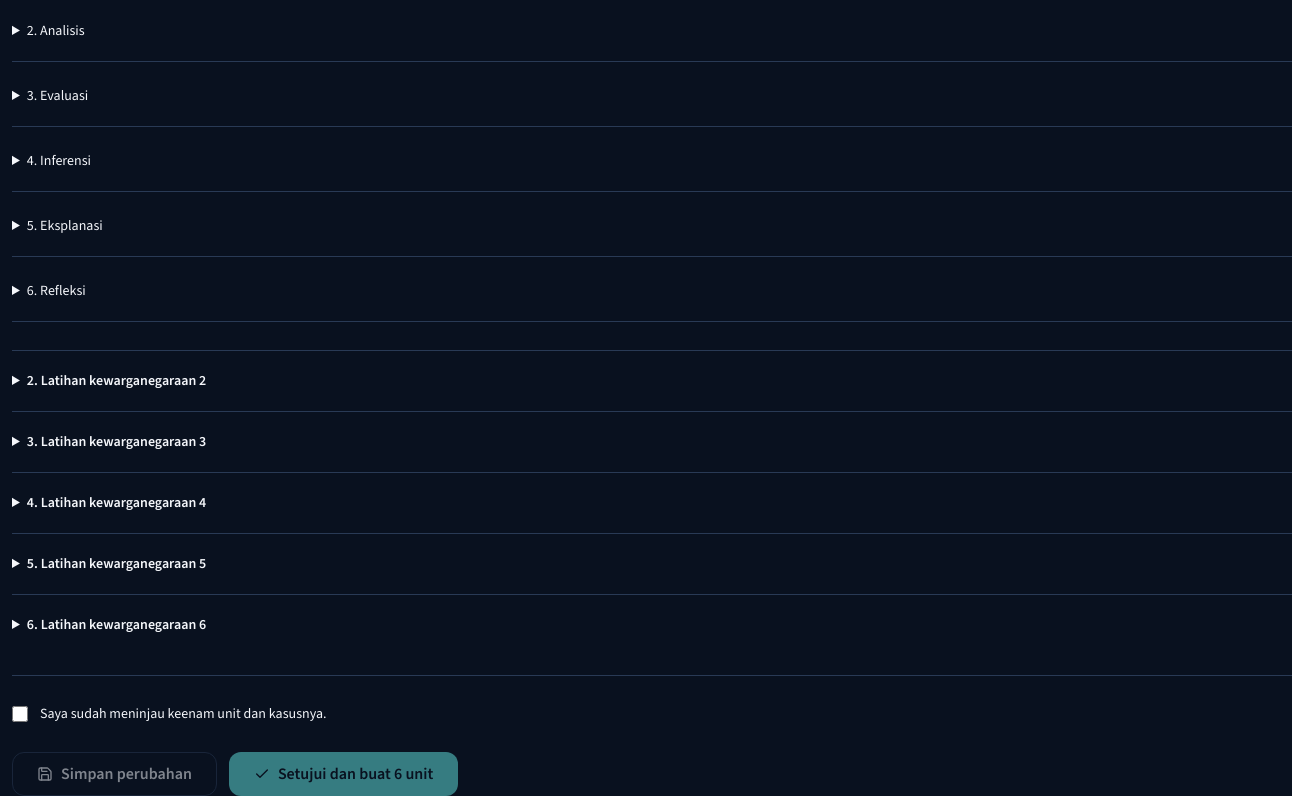
Test: pembuatan enam unit untuk dosen › kegagalan penerapan tidak ditampilkan sebagai sukses
(page scrolled)
Click the checkbox: (20, 714) x1=12 y1=706 x2=28 y2=722
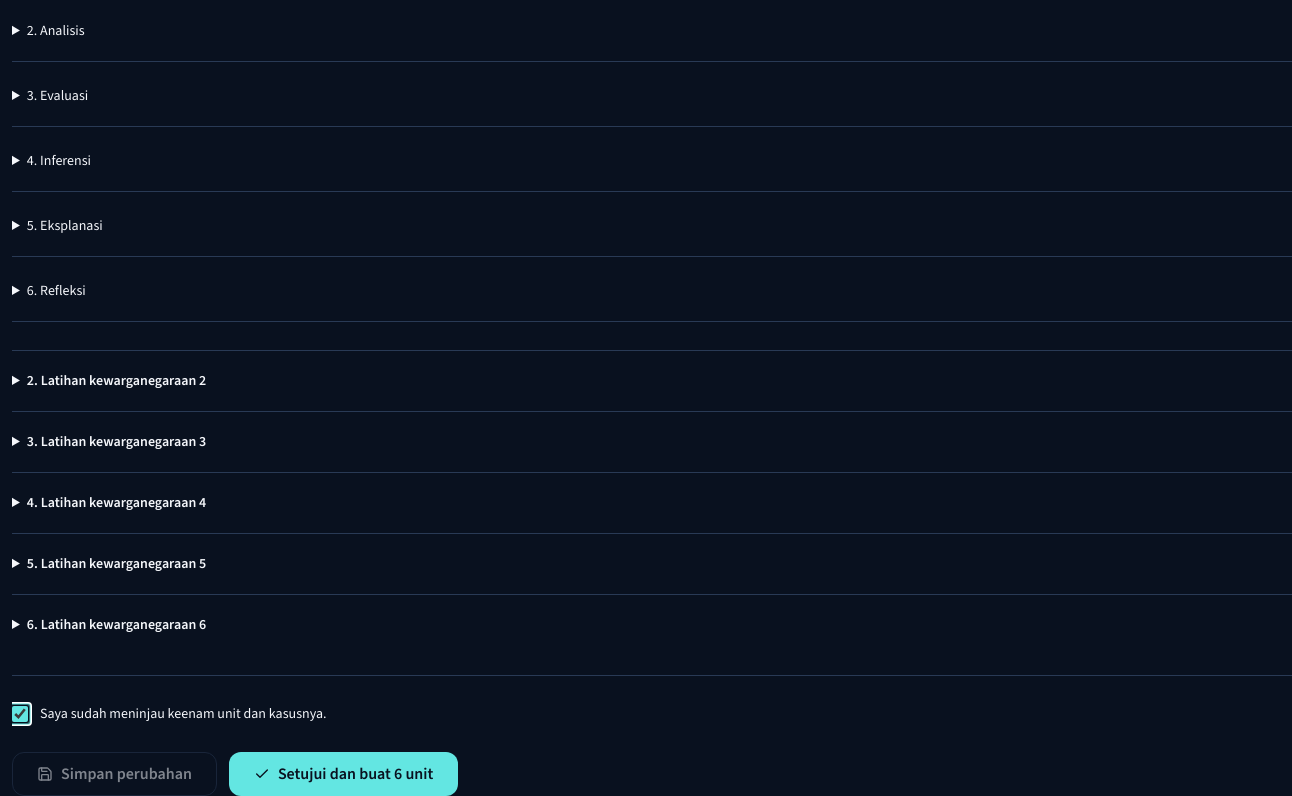
Click the button "Setujui dan buat 6 unit": (344, 774) x1=229 y1=752 x2=458 y2=795
(page scrolled)
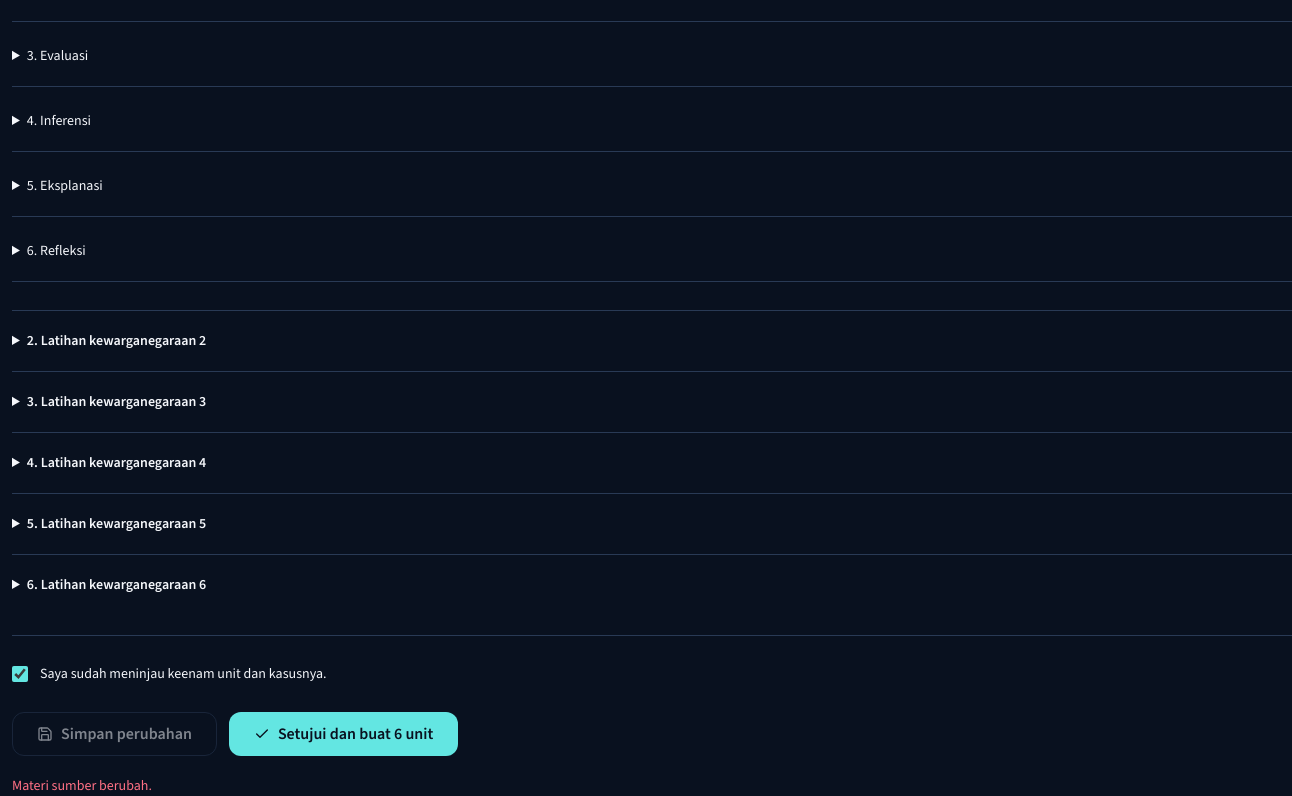
Now the message reads "Materi sumber berubah.", box x1=12 y1=776 x2=152 y2=795
